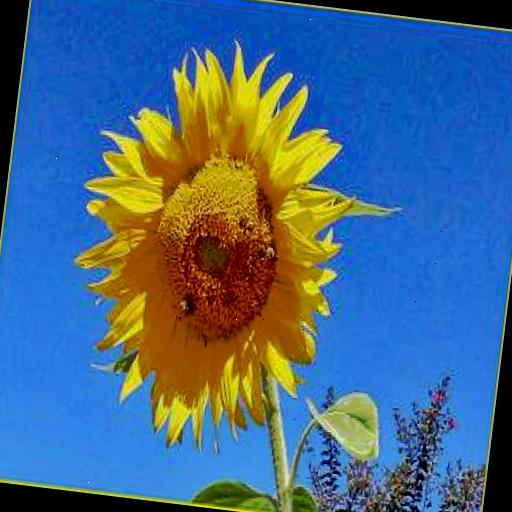sunflower: (56, 27, 410, 468)
